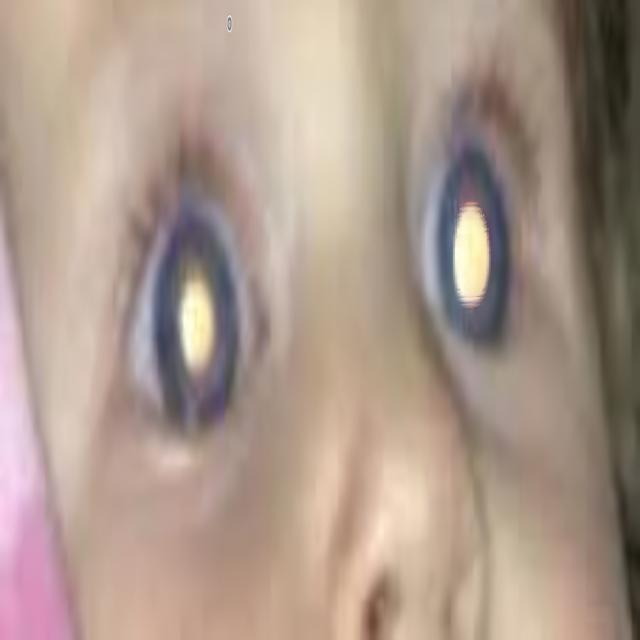reflexo-alterado: (386, 58, 543, 424), (111, 196, 279, 471)
